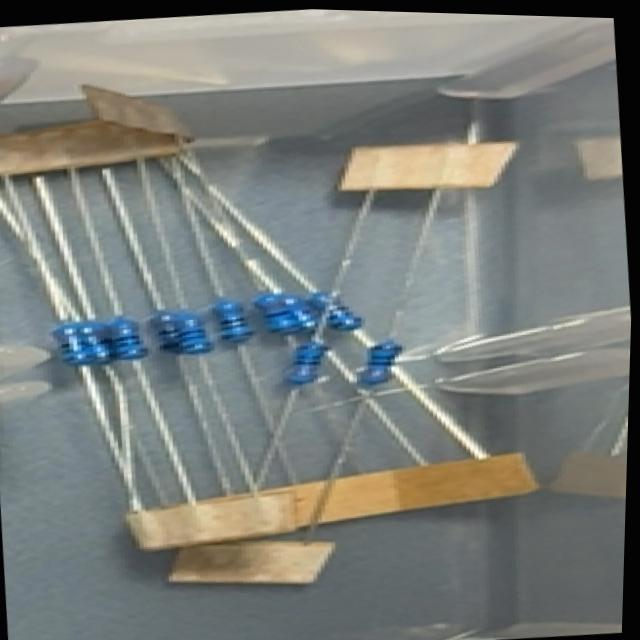Resistor: (276, 340, 332, 388), (310, 285, 366, 333), (50, 319, 94, 371), (205, 295, 252, 343), (357, 340, 404, 387), (252, 290, 298, 338), (147, 307, 190, 355), (105, 313, 143, 365), (175, 310, 209, 357), (283, 292, 315, 332), (83, 317, 108, 366)
